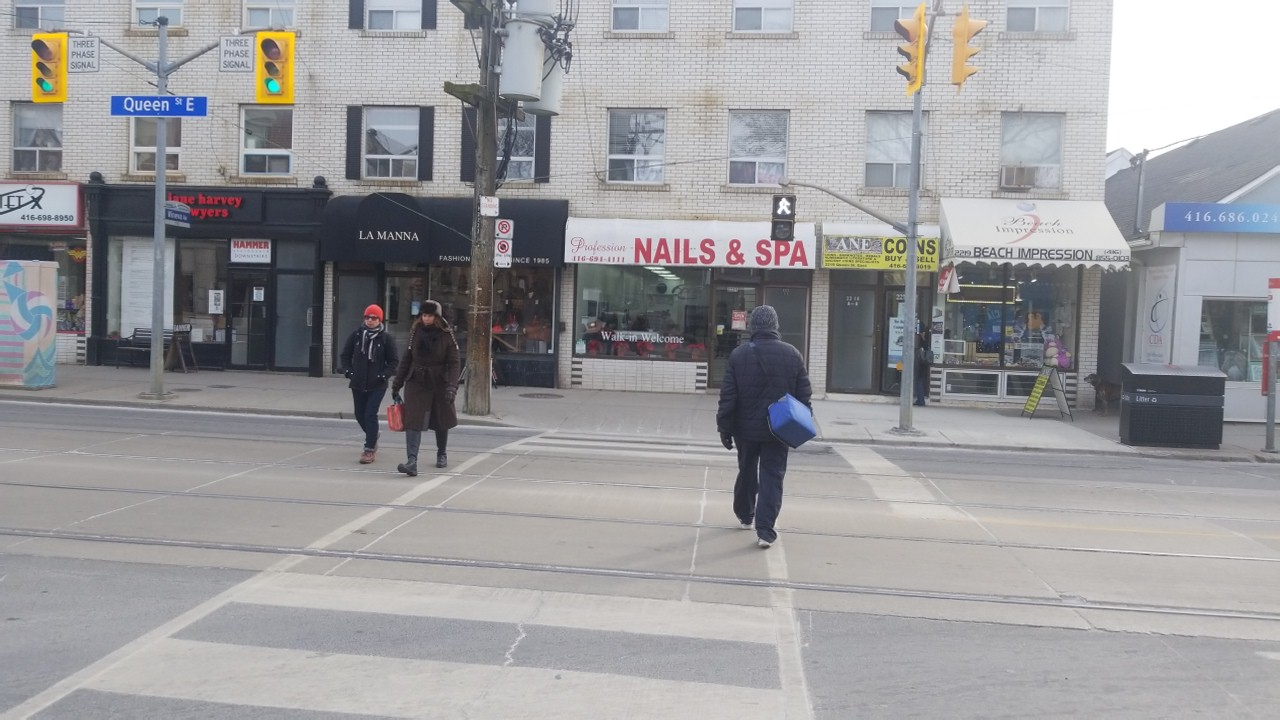light: (768, 191, 798, 244)
